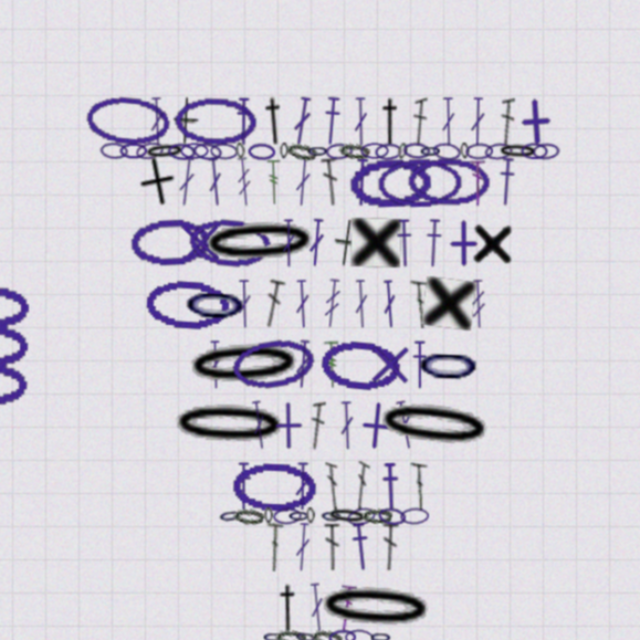chain: (355, 361, 469, 417), (303, 529, 415, 579), (184, 309, 296, 359), (198, 199, 310, 248), (237, 585, 348, 632), (171, 365, 282, 412), (226, 306, 307, 361), (279, 583, 359, 635), (95, 88, 175, 139), (307, 309, 384, 359), (188, 199, 265, 249), (149, 255, 227, 303), (360, 146, 438, 192), (228, 421, 305, 467), (136, 200, 211, 247), (334, 146, 409, 192), (176, 91, 251, 137), (387, 146, 462, 191), (394, 311, 456, 357), (183, 256, 245, 302), (314, 462, 352, 480), (149, 132, 187, 150), (277, 131, 307, 151), (469, 133, 506, 149), (332, 461, 360, 481), (300, 572, 329, 590), (141, 131, 168, 150), (325, 132, 354, 149), (360, 462, 387, 480), (193, 132, 220, 150), (410, 132, 436, 150), (457, 132, 483, 150), (230, 463, 258, 479), (109, 132, 135, 149), (383, 132, 409, 149), (268, 573, 296, 588), (346, 463, 374, 478), (331, 573, 357, 589), (266, 463, 292, 479), (381, 463, 407, 479), (170, 133, 196, 149), (313, 133, 339, 149), (500, 133, 526, 149), (316, 573, 341, 589), (209, 133, 234, 149), (243, 133, 268, 149), (358, 133, 383, 149), (440, 133, 465, 149), (182, 133, 208, 148), (345, 133, 371, 148), (298, 627, 327, 640), (127, 133, 152, 148), (490, 133, 515, 148), (285, 572, 307, 589), (216, 462, 238, 479), (266, 627, 294, 640), (308, 463, 330, 479), (338, 627, 365, 640), (280, 628, 308, 640), (256, 573, 277, 588), (353, 573, 374, 588), (279, 463, 300, 478), (296, 133, 317, 148), (398, 133, 419, 148), (311, 628, 336, 640), (329, 628, 354, 640), (378, 133, 388, 149), (232, 133, 241, 148), (435, 133, 444, 148), (258, 463, 266, 478), (296, 463, 304, 478), (272, 133, 280, 148)
double: (255, 256, 278, 302), (374, 366, 396, 411), (282, 91, 303, 136), (178, 146, 198, 191), (323, 531, 342, 576), (257, 476, 276, 521), (244, 366, 263, 411), (204, 146, 223, 191), (309, 146, 328, 191), (297, 531, 315, 576), (284, 311, 302, 356), (284, 146, 302, 191), (284, 477, 302, 521), (390, 257, 408, 301), (297, 201, 314, 246), (390, 422, 407, 466), (284, 257, 301, 301), (363, 257, 380, 301), (338, 421, 354, 466), (298, 366, 314, 411), (312, 477, 328, 521), (364, 477, 380, 521), (325, 367, 341, 411), (206, 312, 222, 356), (232, 257, 248, 301), (338, 257, 354, 301), (153, 92, 169, 136), (443, 92, 459, 136), (285, 422, 300, 466), (338, 92, 353, 136), (417, 92, 432, 136), (313, 422, 327, 466), (273, 202, 287, 246), (444, 147, 458, 191), (392, 92, 406, 136), (471, 92, 485, 136)
enseble_chain: (0, 262, 52, 377), (612, 272, 638, 368)
half_double: (254, 91, 280, 136), (359, 92, 385, 136), (333, 587, 358, 631), (267, 532, 292, 576), (335, 476, 356, 521), (309, 91, 329, 136), (468, 146, 487, 191), (402, 202, 421, 246), (363, 422, 381, 466), (376, 202, 394, 246), (337, 147, 355, 191), (231, 422, 248, 466), (390, 312, 407, 356), (231, 92, 248, 136)
single: (400, 254, 450, 303), (335, 365, 383, 413), (481, 91, 527, 137), (336, 201, 382, 246), (140, 144, 182, 193), (349, 311, 394, 356), (178, 201, 223, 246), (258, 367, 302, 411), (416, 202, 460, 246), (444, 201, 486, 246), (319, 201, 347, 247), (175, 91, 200, 136)
treble: (310, 256, 329, 301), (231, 146, 249, 191), (311, 312, 327, 356), (444, 257, 460, 301), (259, 147, 275, 191)
